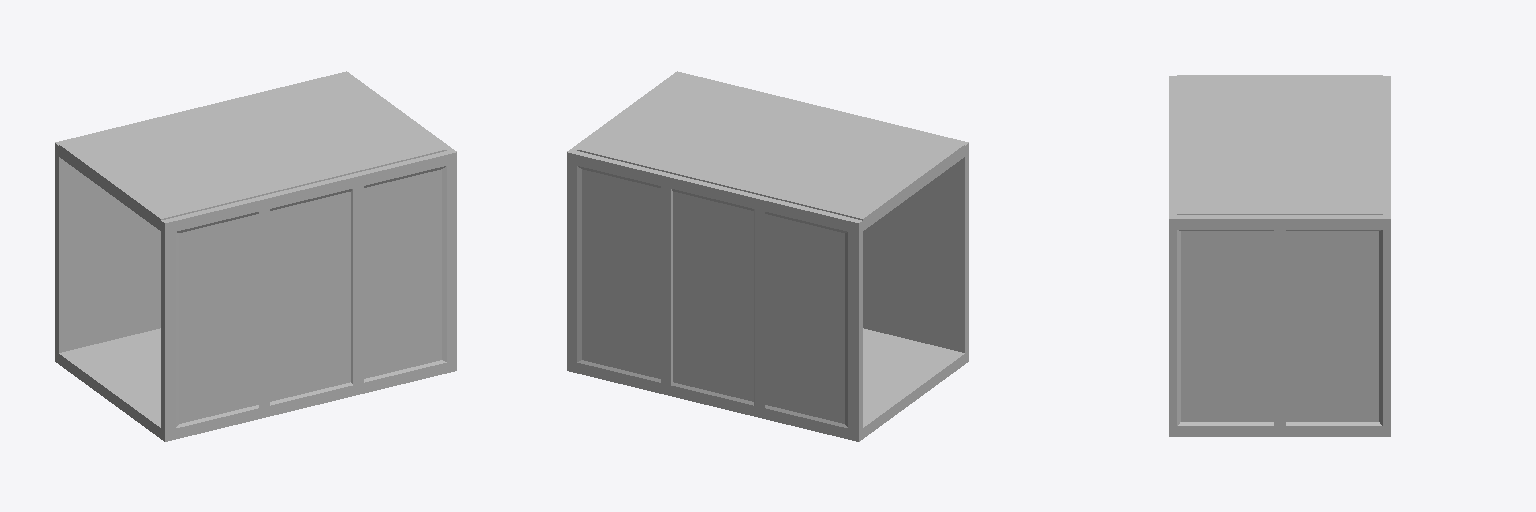
The model's file is Crate_3.obj.
The picture shows the model from 3 angles: view 1: azimuth 30°, elevation 25°; view 2: azimuth 150°, elevation 25°; view 3: azimuth 270°, elevation 25°; orthographic projection.
Visible parts, largest first — view 1: Large_Crate; view 2: Large_Crate; view 3: Large_Crate.
Boxes of the visible parts, box(x1,y1,x2,y2) form: Large_Crate: box(55, 71, 456, 441); Large_Crate: box(567, 71, 968, 441); Large_Crate: box(1169, 75, 1390, 436).
Size of the model in its own units: 4.2 by 3.02 by 2.75.